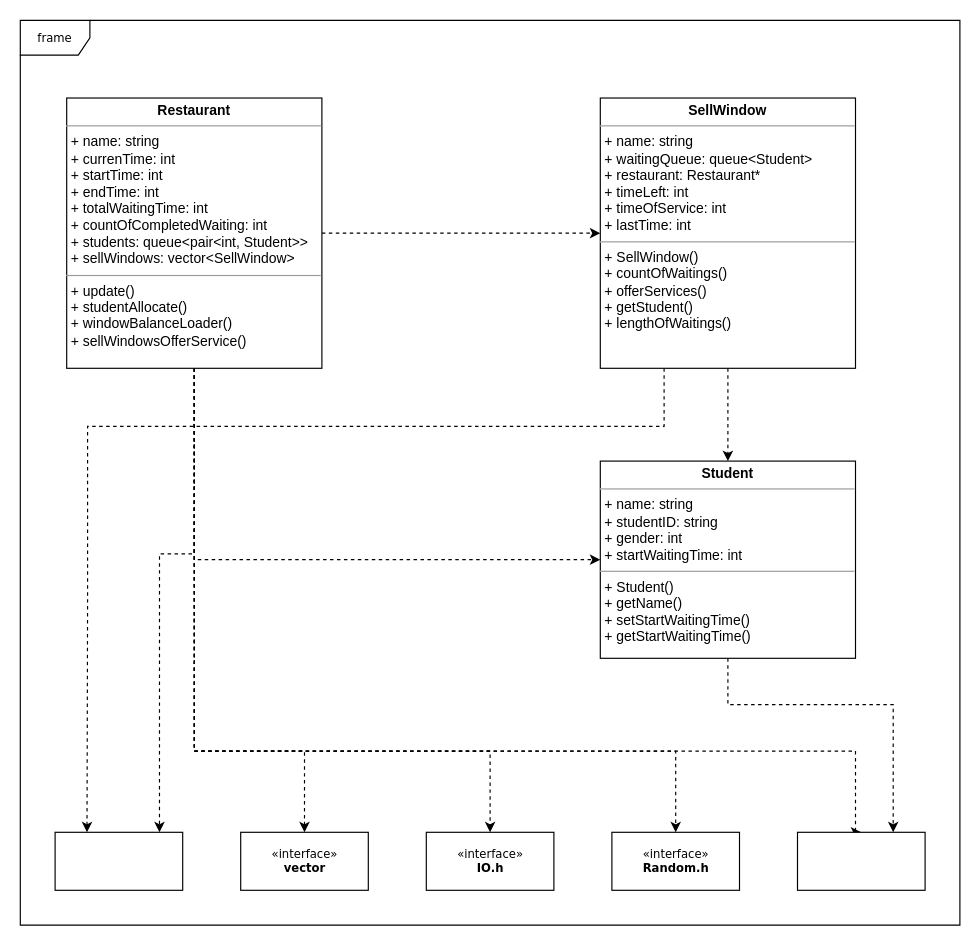
Image size: 980x945. Some labels were removed from this diagram. The centre of each missing label's shape, as x and y in pixels:
"«interface» queue" belongs at [118,860].
"«interface» string" belongs at [860,860].
